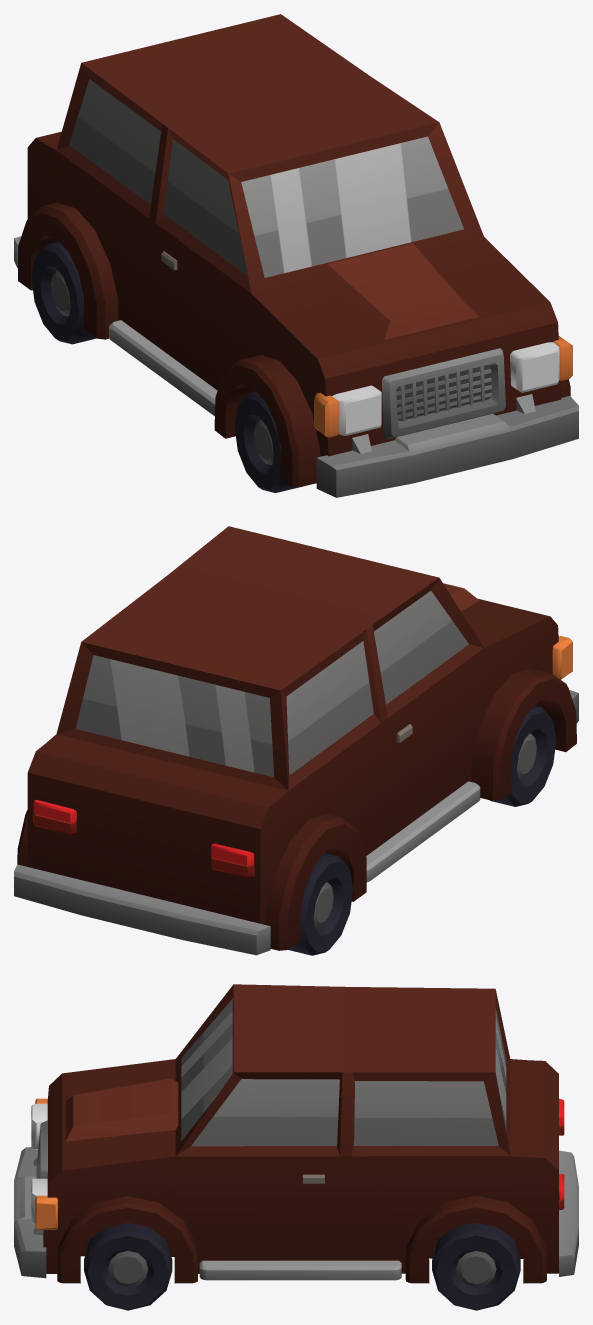
File: Car_3_13.glb
3 views of the same model, one above another, from view 1: azimuth 30°, elevation 25°; view 2: azimuth 150°, elevation 25°; view 3: azimuth 270°, elevation 25° (orthographic). The views are drawn at different scales.
Visible parts, largest first — view 1: Car_3_13, Wheel_Br, Wheel_Fr; view 2: Car_3_13, Wheel_Br, Wheel_Fr; view 3: Car_3_13, Wheel_Bl, Wheel_Fl.
Part boxes in pixels (x1,y1,x2,y2): Car_3_13: [14, 14, 578, 497]; Wheel_Br: [31, 241, 96, 344]; Wheel_Fr: [234, 391, 297, 492]; Car_3_13: [14, 526, 578, 955]; Wheel_Br: [288, 853, 353, 955]; Wheel_Fr: [490, 705, 556, 806]; Car_3_13: [14, 984, 578, 1283]; Wheel_Bl: [432, 1223, 520, 1310]; Wheel_Fl: [84, 1223, 172, 1310].
Size of the model in its own units: 1.13 by 1.02 by 2.3.
6 materials, 6 textured.
